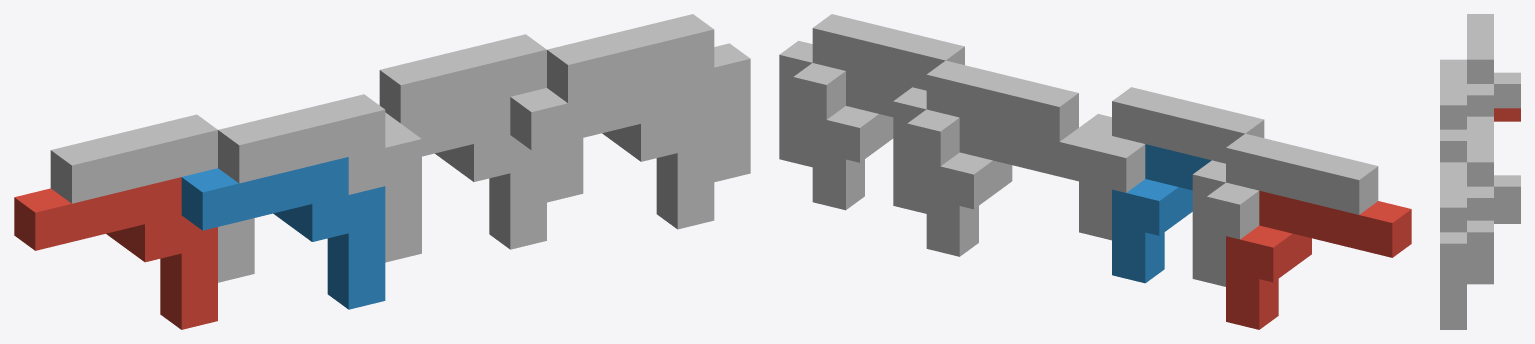
File: tiling.obj
The picture shows the model from 3 angles, left to right: view 1: azimuth 30°, elevation 25°; view 2: azimuth 150°, elevation 25°; view 3: azimuth 270°, elevation 25°; orthographic projection. The views are drawn at different scales.
Visible parts, largest first — view 1: copy_1_domain_4, copy_1_domain_8, copy_1_domain_6, copy_1_domain_2, copy_1_domain_1, copy_1_domain_3, copy_1_domain_7, copy_1_domain_5; view 2: copy_1_domain_3, copy_1_domain_7, copy_1_domain_8, copy_1_domain_1, copy_1_domain_4, copy_1_domain_5, copy_1_domain_6, copy_1_domain_2; view 3: copy_1_domain_8, copy_1_domain_7, copy_1_domain_3, copy_1_domain_4, copy_1_domain_5, copy_1_domain_6, copy_1_domain_1.
Part boxes in pixels (bbox=[...]): copy_1_domain_4: bbox=[218, 94, 421, 262]; copy_1_domain_8: bbox=[547, 14, 750, 182]; copy_1_domain_6: bbox=[510, 76, 714, 229]; copy_1_domain_2: bbox=[181, 157, 385, 309]; copy_1_domain_1: bbox=[14, 177, 217, 329]; copy_1_domain_3: bbox=[50, 114, 254, 282]; copy_1_domain_7: bbox=[379, 34, 583, 202]; copy_1_domain_5: bbox=[385, 97, 546, 249]; copy_1_domain_3: bbox=[1192, 133, 1378, 286]; copy_1_domain_7: bbox=[893, 60, 1078, 213]; copy_1_domain_8: bbox=[779, 14, 964, 167]; copy_1_domain_1: bbox=[1226, 190, 1411, 329]; copy_1_domain_4: bbox=[1079, 87, 1264, 240]; copy_1_domain_5: bbox=[926, 117, 1111, 256]; copy_1_domain_6: bbox=[812, 71, 911, 210]; copy_1_domain_2: bbox=[1112, 144, 1211, 283]; copy_1_domain_8: bbox=[1440, 162, 1493, 316]; copy_1_domain_7: bbox=[1467, 116, 1520, 271]; copy_1_domain_3: bbox=[1467, 14, 1520, 116]; copy_1_domain_4: bbox=[1440, 59, 1466, 162]; copy_1_domain_5: bbox=[1467, 211, 1520, 284]; copy_1_domain_6: bbox=[1440, 256, 1493, 329]; copy_1_domain_1: bbox=[1494, 108, 1520, 121].
Bounding box in the file's own units: 19 × 5 × 3.
